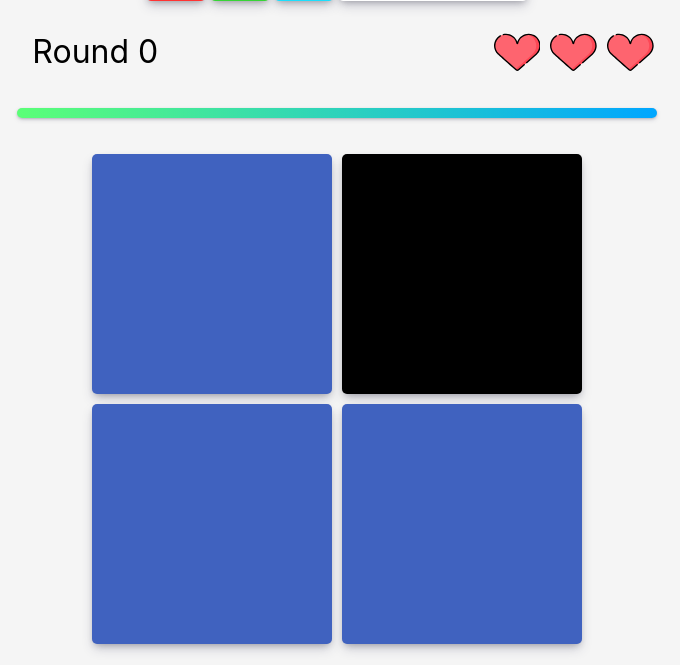
Scenario: Fail tile Game › should lose a heart when failed lucky tile
(page scrolled)
expect the number of icons with test id "heart-icon" is 3: met, box [607,29,664,75]; [550,29,607,75]; [494,29,550,75]
What coordinates should you click on to do the following:
click the 3rd element with test id "tile"
I would click on:
 (212, 524)
Its box is [92,404,332,644].
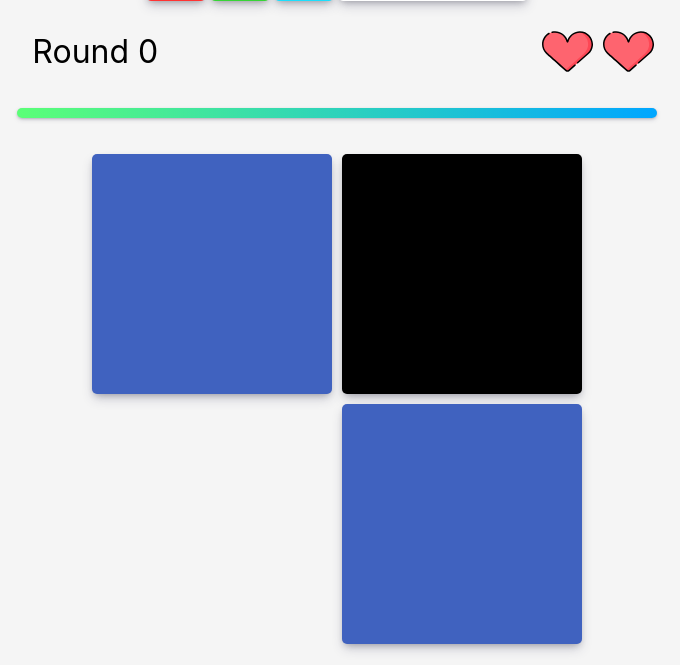
expect the number of icons with test id "heart-icon" is 2: met, box [603,26,664,77]; [542,26,603,77]
